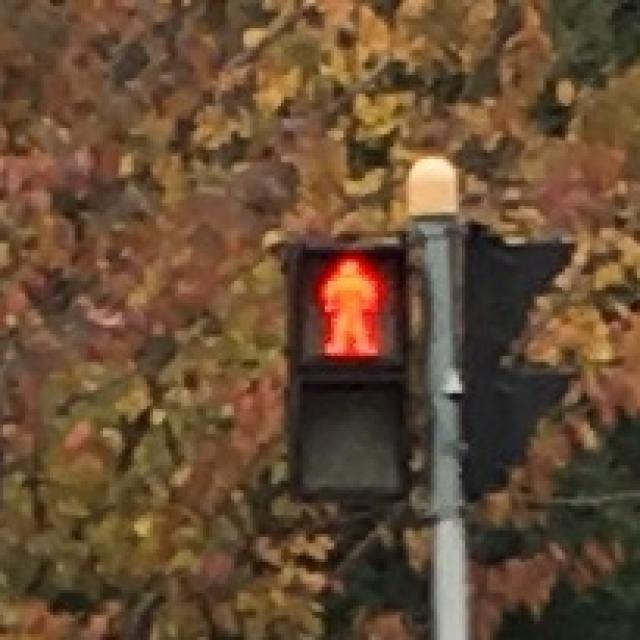red_light: (296, 244, 399, 362)
